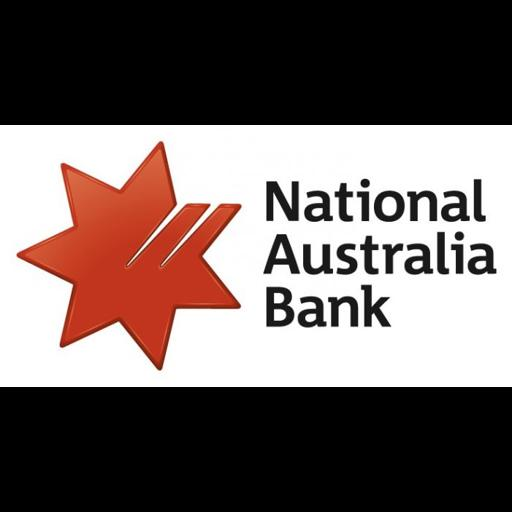National Australia Bank Limited: (0, 125, 512, 387)
